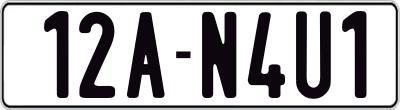1: (42, 10, 69, 101), (342, 9, 367, 97)
2: (78, 10, 114, 101)
4: (245, 12, 288, 98)
A: (126, 11, 165, 99)
N: (201, 10, 237, 99)
U: (296, 9, 334, 102)
